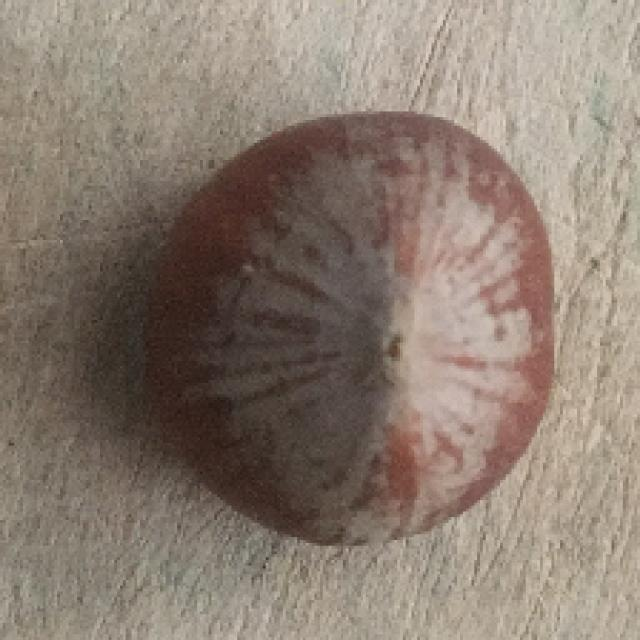qualityHazelnut: (147, 110, 556, 540)
